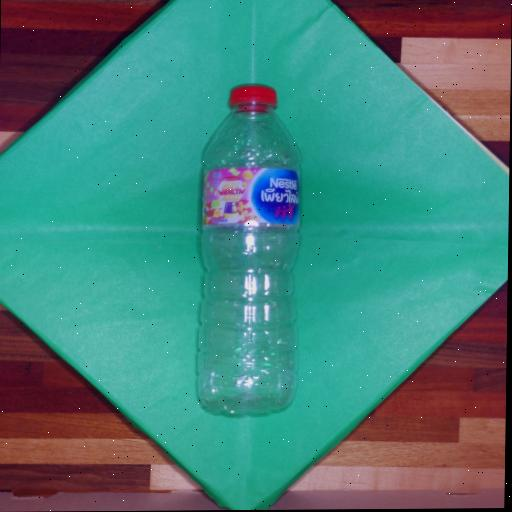bottle: (191, 85, 302, 418)
